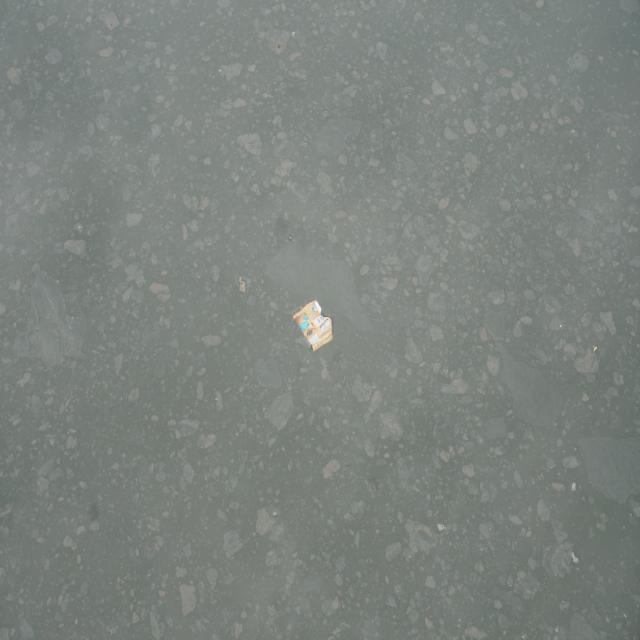Bungkus Minuman: (295, 291, 338, 361)
